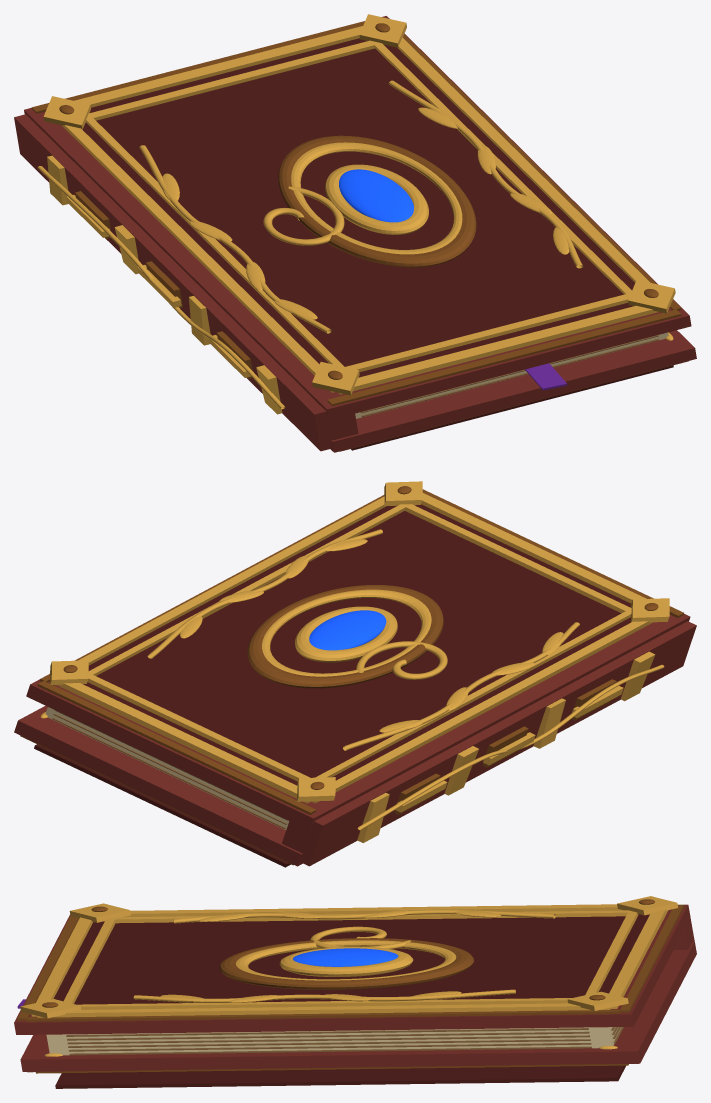
The model's file is book-return-v2-detailed.glb.
3 views of the same model, one above another, from view 1: azimuth 30°, elevation 25°; view 2: azimuth 150°, elevation 25°; view 3: azimuth 270°, elevation 25° (orthographic). The views are drawn at different scales.
Parts seen in each view (by area): view 1: YummiDetailedBook; view 2: YummiDetailedBook; view 3: YummiDetailedBook.
Boxes of the visible parts, left/top/right/bottom form: YummiDetailedBook: left=14, top=14, right=696, bottom=452; YummiDetailedBook: left=14, top=481, right=696, bottom=867; YummiDetailedBook: left=14, top=896, right=696, bottom=1088.
Size of the model in its own units: 0.86 by 0.3 by 1.44.
